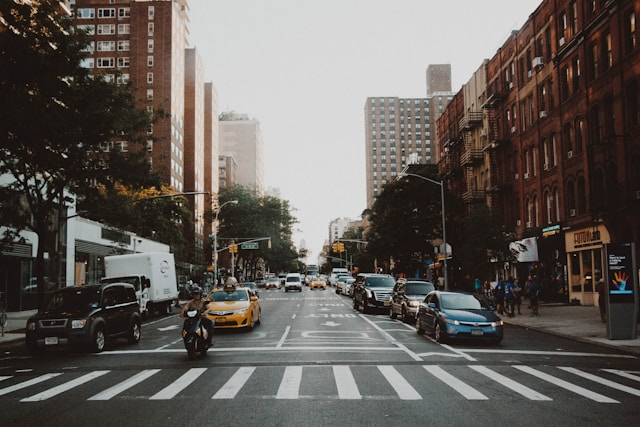car: (19, 277, 149, 358), (415, 290, 509, 351), (208, 281, 270, 337), (175, 291, 220, 367), (382, 277, 442, 319), (348, 274, 405, 312), (280, 271, 308, 296), (335, 276, 360, 297), (306, 274, 330, 293), (266, 276, 284, 293)
